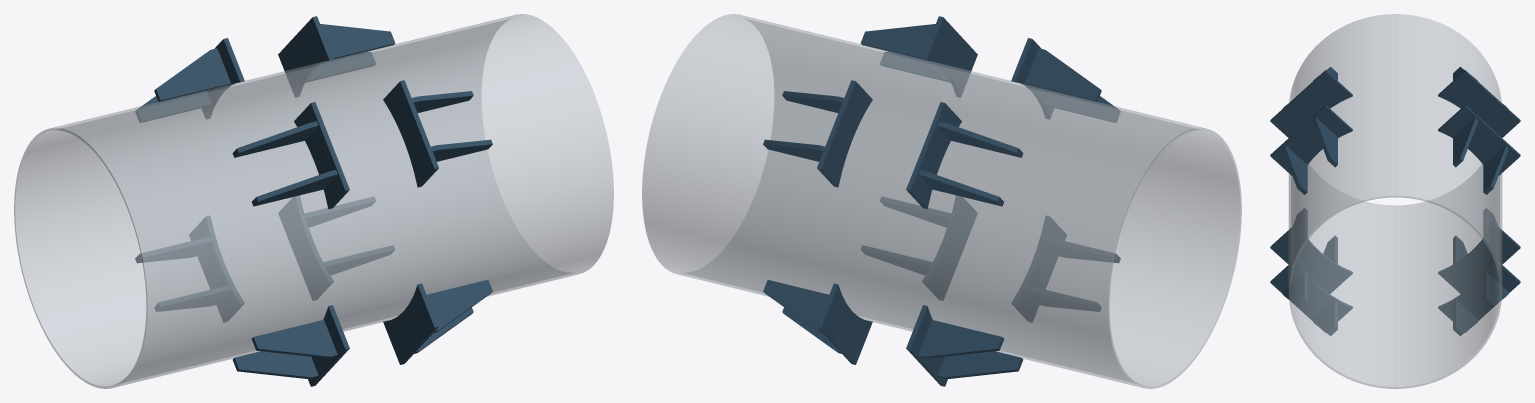
Rendered from TS-661.00.00-10-opora-dn820-ris2.glb.
3 renders of one model, left to right at view 1: azimuth 30°, elevation 25°; view 2: azimuth 150°, elevation 25°; view 3: azimuth 270°, elevation 25°, orthographic. The views are drawn at different scales.
Parts seen in each view (by area): view 1: truba, upor_1, upor_13, upor_7, upor_19, upor_11, upor_24, upor_4, upor_16, upor_12, upor_21, upor_8 (+12 smaller); view 2: truba, upor_19, upor_7, upor_13, upor_1, upor_18, upor_5, upor_22, upor_10, upor_17, upor_2, upor_15 (+12 smaller); view 3: truba, upor_4, upor_22, upor_10, upor_16, upor_1, upor_19, upor_7, upor_13, upor_3, upor_20, upor_2 (+9 smaller).
Part boxes in pixels (box(x1,y1,x2,y2)): truba: box(14, 14, 613, 388); upor_1: box(383, 80, 438, 187); upor_13: box(278, 196, 333, 300); upor_7: box(383, 283, 438, 364); upor_19: box(278, 16, 333, 97); upor_11: box(252, 320, 337, 358); upor_24: box(154, 48, 230, 102); upor_4: box(294, 102, 349, 209); upor_16: box(189, 216, 244, 322); upor_12: box(232, 351, 318, 379); upor_21: box(320, 24, 395, 61); upor_8: box(427, 280, 492, 333); truba: box(642, 14, 1241, 388); upor_19: box(817, 80, 872, 187); upor_7: box(922, 196, 977, 300); upor_13: box(817, 283, 872, 364); upor_1: box(922, 16, 977, 97); upor_18: box(918, 320, 1003, 358); upor_5: box(1025, 48, 1101, 102); upor_22: box(906, 102, 961, 209); upor_10: box(1011, 216, 1066, 322); upor_17: box(937, 351, 1023, 379); upor_2: box(860, 24, 935, 61); upor_15: box(763, 280, 828, 333); truba: box(1288, 14, 1502, 388); upor_4: box(1270, 70, 1352, 137); upor_22: box(1438, 70, 1520, 137); upor_10: box(1270, 222, 1352, 293); upor_16: box(1438, 222, 1520, 293); upor_1: box(1270, 105, 1352, 175); upor_19: box(1438, 105, 1520, 175); upor_7: box(1270, 257, 1352, 332); upor_13: box(1438, 257, 1520, 332); upor_3: box(1282, 145, 1307, 194); upor_20: box(1483, 145, 1508, 194); upor_2: box(1313, 117, 1337, 167).
Size of the model in its own units: 1652 by 961 by 961.
